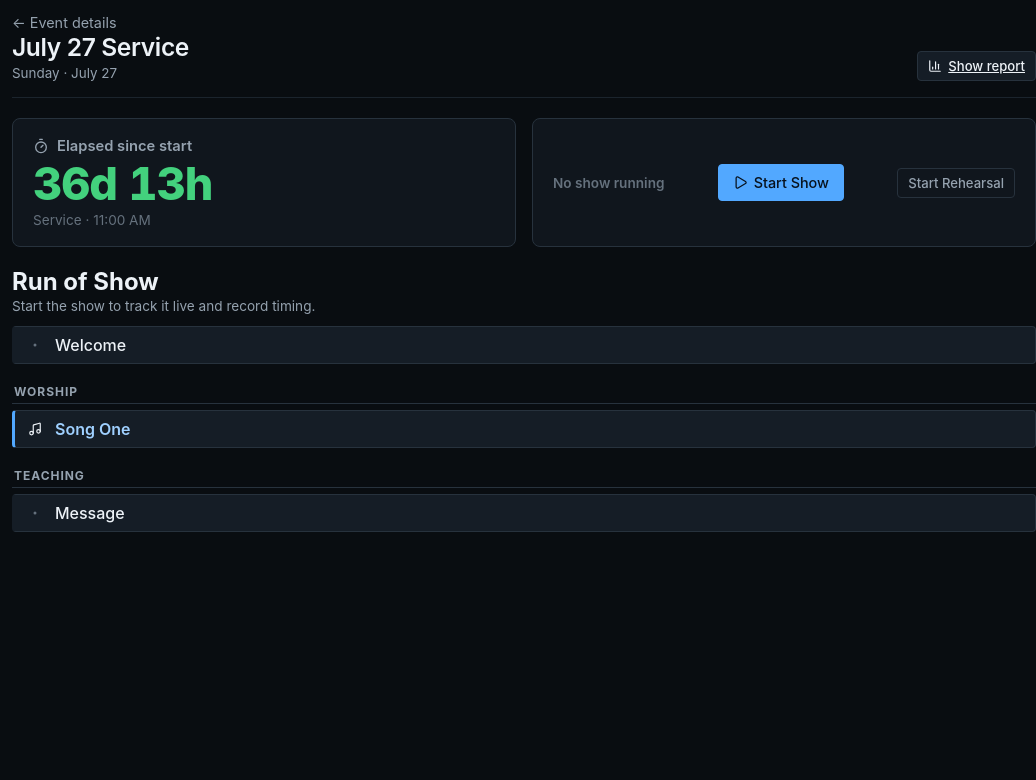
start → live controls › starts the show and swaps Start for Prev/Next/End
This screenshot has width=1036, height=780.
Click the button "Start Show".
click(781, 182)  # box [718,164,844,201]
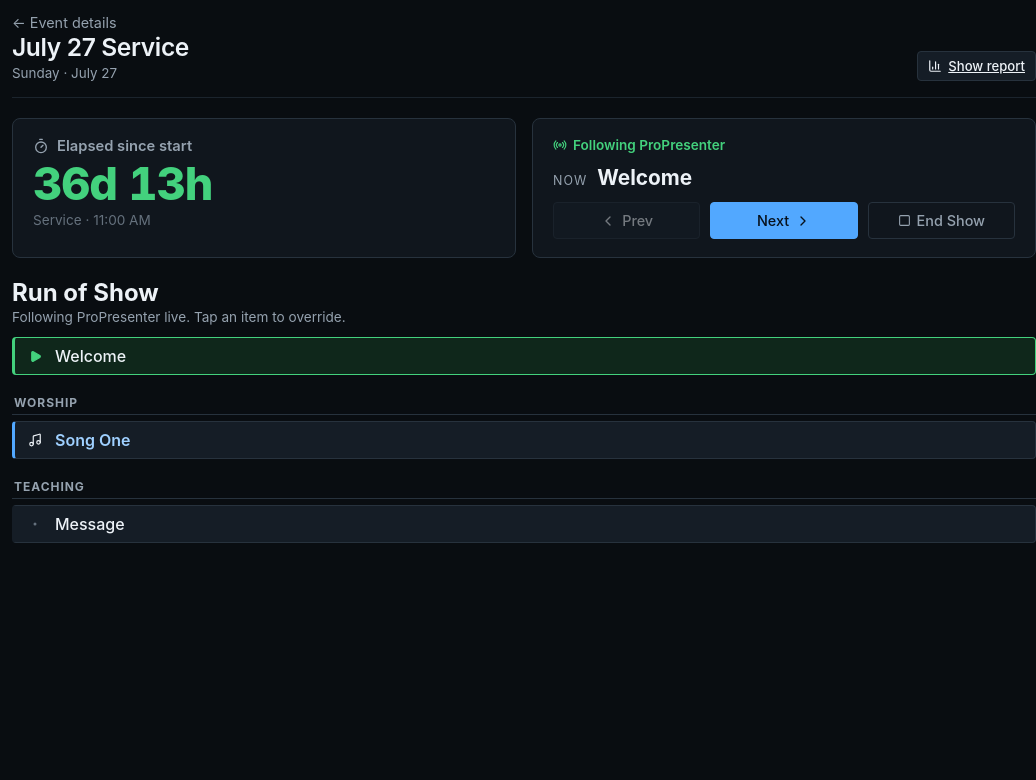
Expected: the button "End Show" is shown, [868,202,1015,239]
Expected: the button "Prev" is shown, [553,202,700,239]
Expected: the button "Next" is shown, [710,202,858,239]
